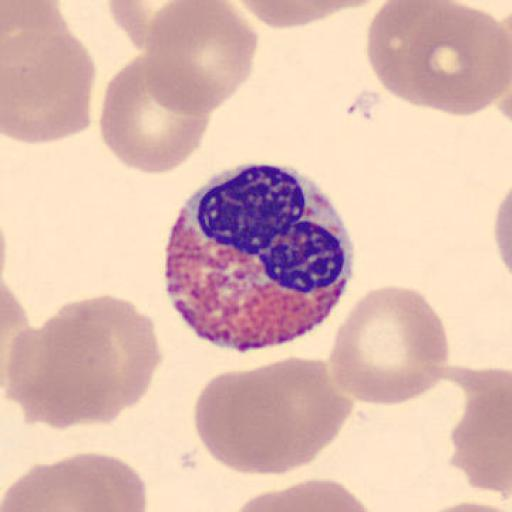RBC: (192, 356, 354, 476), (39, 294, 163, 430), (328, 283, 451, 407), (6, 309, 124, 430), (140, 0, 260, 116), (98, 56, 212, 176), (405, 1, 512, 117), (366, 0, 480, 103), (3, 30, 97, 146), (365, 0, 449, 107), (2, 451, 150, 511), (449, 363, 512, 499), (107, 0, 223, 54), (229, 476, 382, 512), (1, 0, 70, 69), (233, 0, 391, 28), (0, 460, 78, 512), (0, 277, 31, 396), (1, 280, 30, 362), (490, 181, 512, 286), (493, 192, 512, 281), (414, 499, 512, 511), (416, 502, 512, 512)
WBC: (163, 161, 355, 354)
